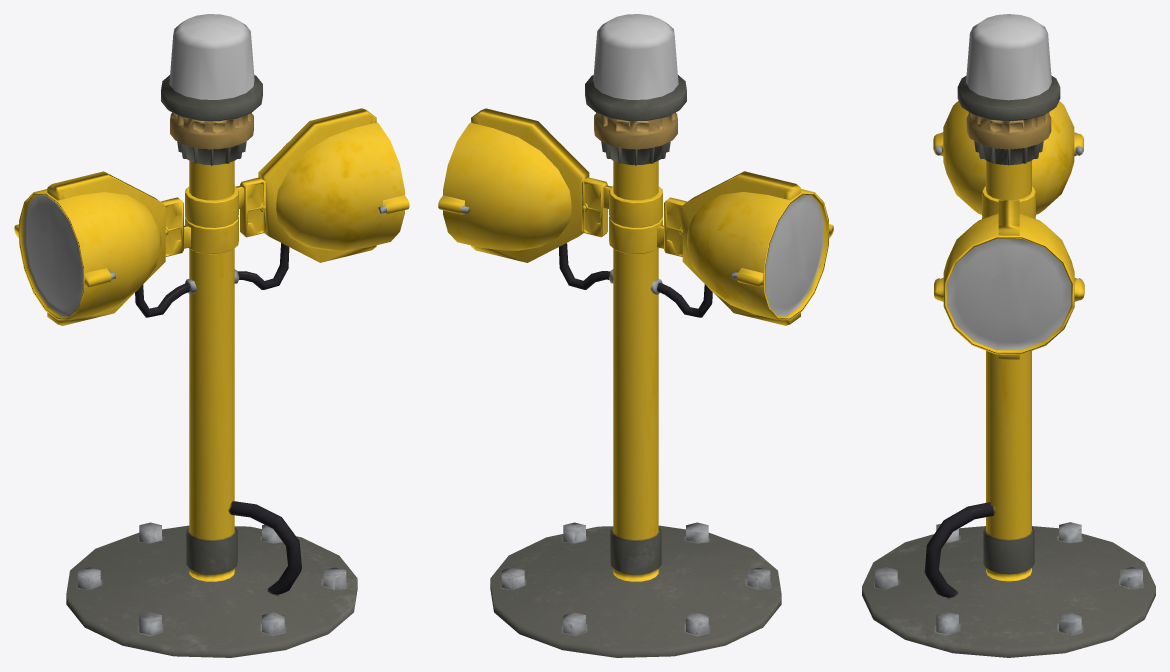
File: anflugfeuersystem_atr_taxiway_niedrig.fbx
The picture shows the model from 3 angles, left to right: view 1: azimuth 30°, elevation 25°; view 2: azimuth 150°, elevation 25°; view 3: azimuth 270°, elevation 25°; orthographic projection.
Visible parts, largest first — view 1: taxiway_atr_niedrig_signal_orange_low, taxiway_atr_niedrig_signal_orange_doppelt_low, taxiway_atr_niedrig_signal_orange_einfach_low, taxiway_atr_niedrig_einfach_high, taxiway_atr_niedrig_signal_orange_doppelt_high; view 2: taxiway_atr_niedrig_signal_orange_low, taxiway_atr_niedrig_signal_orange_doppelt_low, taxiway_atr_niedrig_signal_orange_einfach_low, taxiway_atr_niedrig_einfach_high, taxiway_atr_niedrig_signal_orange_doppelt_high; view 3: taxiway_atr_niedrig_signal_orange_low, taxiway_atr_niedrig_signal_orange_doppelt_low, taxiway_atr_niedrig_einfach_high, taxiway_atr_niedrig_signal_orange_einfach_low, taxiway_atr_niedrig_signal_orange_einfach_high, taxiway_atr_niedrig_signal_orange_doppelt_high.
Boxes of the visible parts, x1=… form: taxiway_atr_niedrig_signal_orange_low: x1=66, y1=14, x2=357, y2=657; taxiway_atr_niedrig_signal_orange_doppelt_low: x1=185, y1=108, x2=404, y2=262; taxiway_atr_niedrig_signal_orange_einfach_low: x1=19, y1=171, x2=238, y2=325; taxiway_atr_niedrig_einfach_high: x1=14, y1=164, x2=346, y2=635; taxiway_atr_niedrig_signal_orange_doppelt_high: x1=234, y1=195, x2=409, y2=289; taxiway_atr_niedrig_signal_orange_low: x1=490, y1=14, x2=781, y2=657; taxiway_atr_niedrig_signal_orange_doppelt_low: x1=443, y1=108, x2=662, y2=262; taxiway_atr_niedrig_signal_orange_einfach_low: x1=609, y1=171, x2=828, y2=325; taxiway_atr_niedrig_einfach_high: x1=501, y1=161, x2=833, y2=635; taxiway_atr_niedrig_signal_orange_doppelt_high: x1=438, y1=195, x2=613, y2=289; taxiway_atr_niedrig_signal_orange_low: x1=862, y1=14, x2=1155, y2=657; taxiway_atr_niedrig_signal_orange_doppelt_low: x1=943, y1=186, x2=1074, y2=359; taxiway_atr_niedrig_einfach_high: x1=875, y1=132, x2=1142, y2=634; taxiway_atr_niedrig_signal_orange_einfach_low: x1=943, y1=101, x2=1074, y2=218; taxiway_atr_niedrig_signal_orange_einfach_high: x1=974, y1=141, x2=1043, y2=165; taxiway_atr_niedrig_signal_orange_doppelt_high: x1=934, y1=277, x2=1084, y2=301.
Bounding box in the file's own units: 37.76 × 64.74 × 30.
